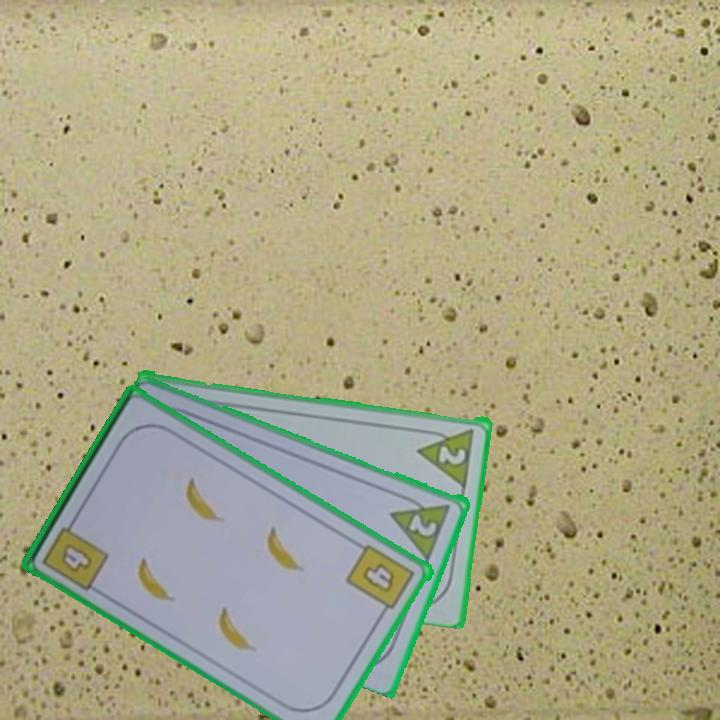2p: (405, 510, 441, 539), (435, 439, 469, 468)
4b: (343, 540, 419, 620), (58, 539, 97, 576)
